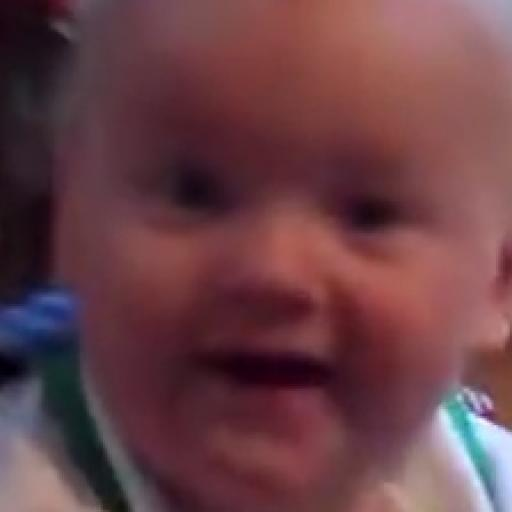Autism: (68, 2, 512, 511)
